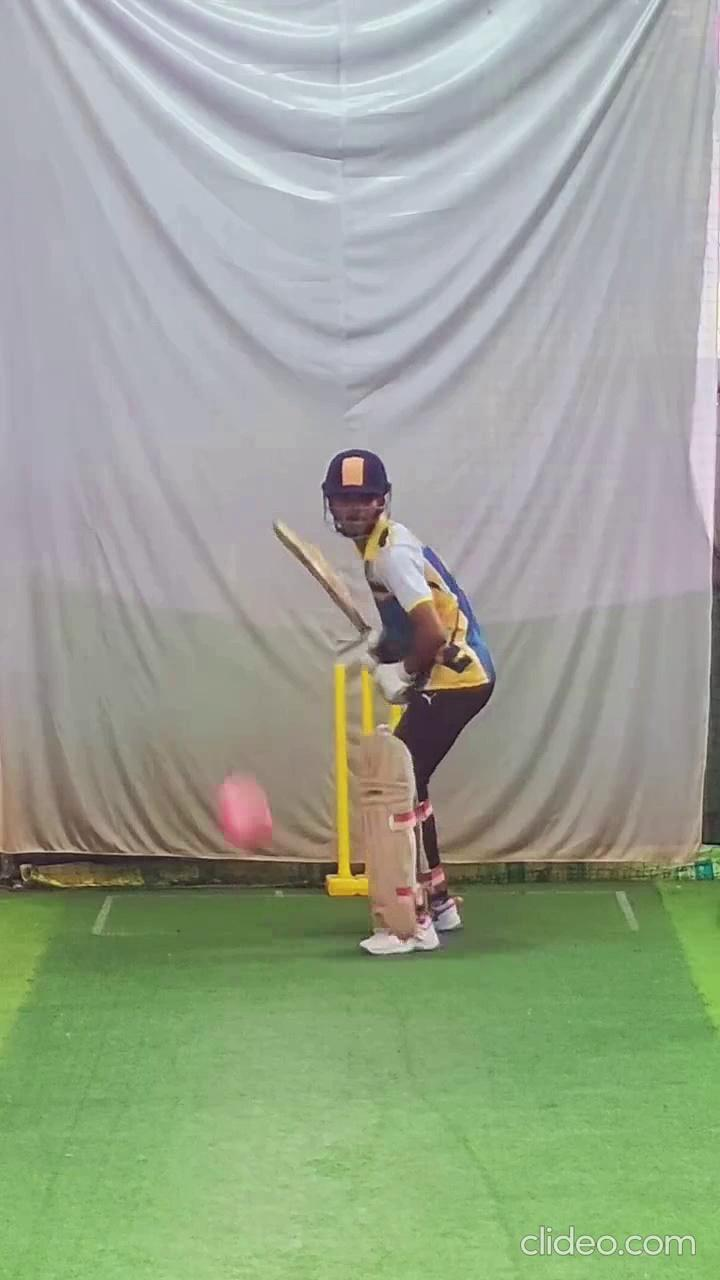bat: (268, 508, 373, 639)
